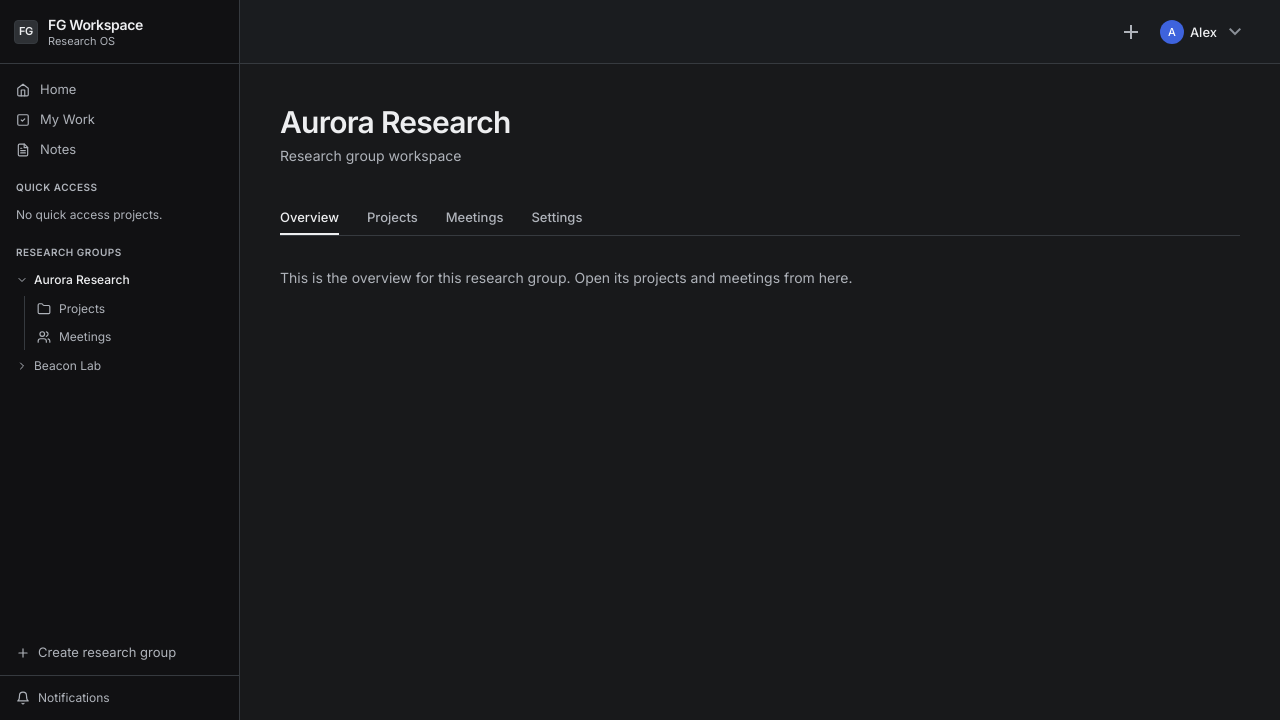
Test: Research Group workspace — shared layout + nested routes › shows the existing Settings inside the layout for admins (Settings tab active)
expect the heading "Aurora Research" is shown: met, box [280,104,511,140]
Click the link "Settings": point(557, 216) [531,208,582,224]
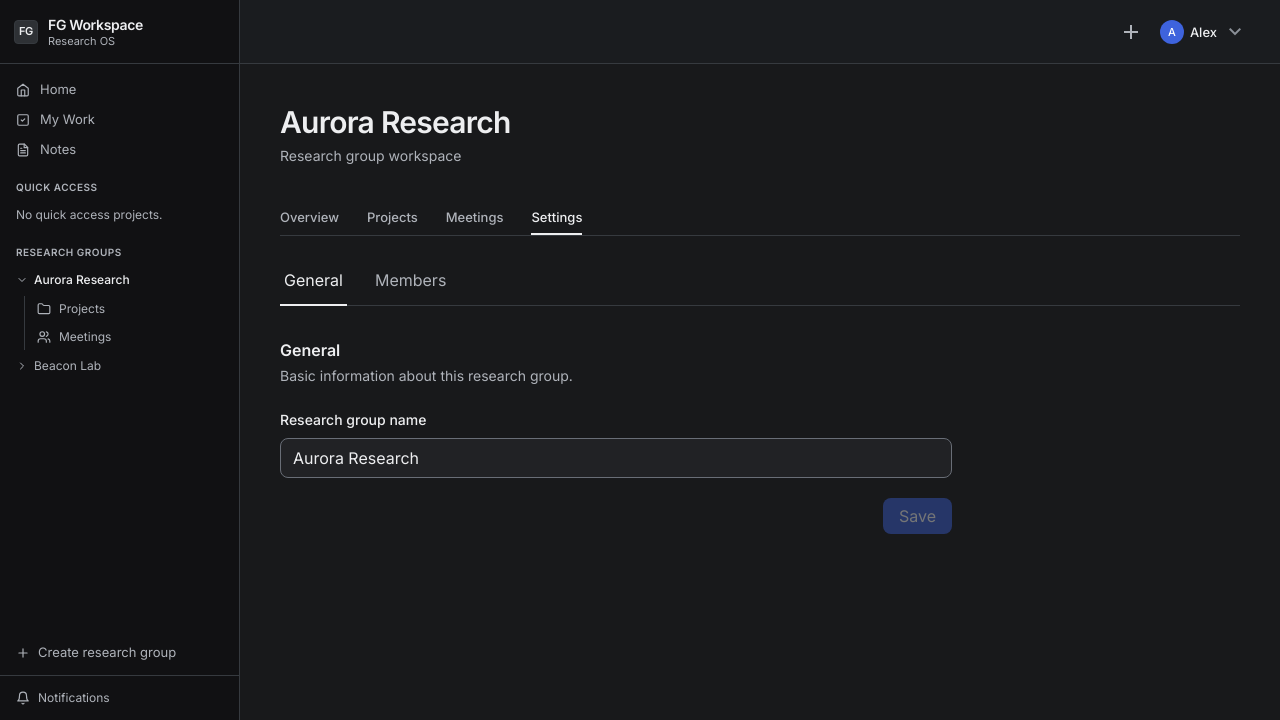
expect the field labelled "Research group name" is shown: met, box [280,438,952,478]
Click the button "Members": point(411, 287) [371,268,450,306]
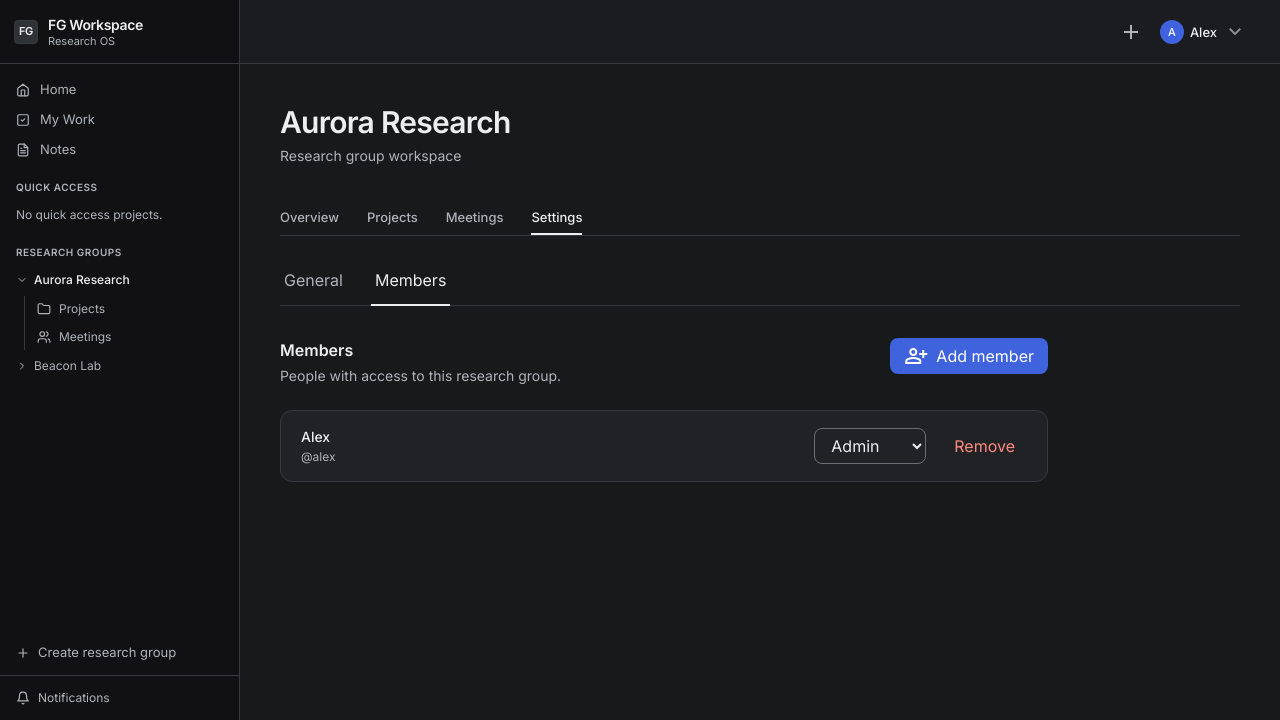
expect the button "Add member" is shown: met, box [890,338,1048,374]
expect the text "@alex" is shown: met, box [301,449,336,464]
